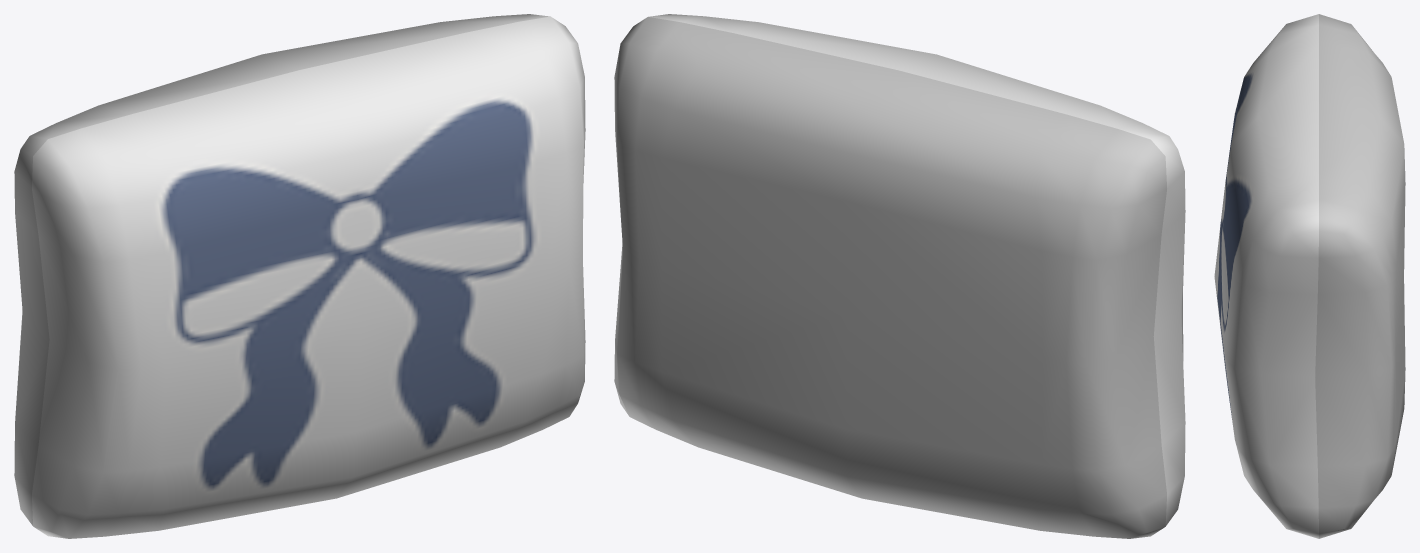
Rendered from SM_Props_Pillow_06.fbx.
The picture shows the model from 3 angles, left to right: view 1: azimuth 30°, elevation 25°; view 2: azimuth 150°, elevation 25°; view 3: azimuth 270°, elevation 25°; orthographic projection. The views are drawn at different scales.
Visible parts, largest first — view 1: SM_Props_Pillow_06; view 2: SM_Props_Pillow_06; view 3: SM_Props_Pillow_06.
Boxes of the visible parts, <box> form: SM_Props_Pillow_06: <box>14,14,585,538</box>; SM_Props_Pillow_06: <box>614,14,1185,538</box>; SM_Props_Pillow_06: <box>1214,14,1405,538</box>.
Size of the model in its own units: 0.6952 by 0.5116 by 0.2629.
